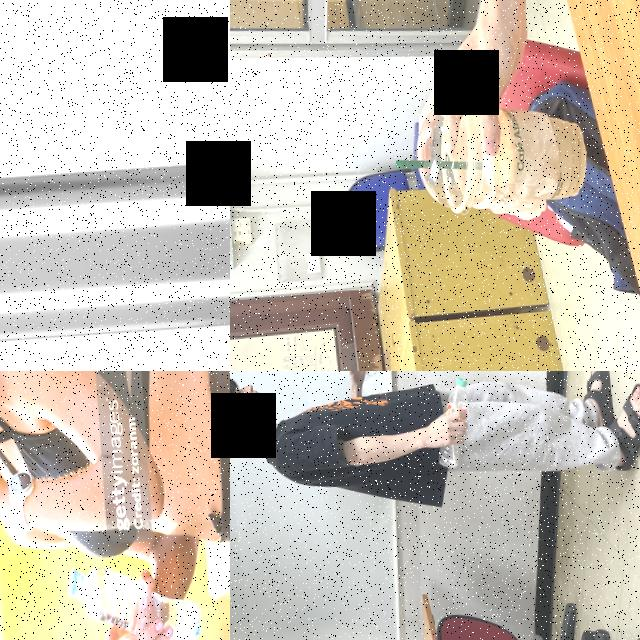bottle: (64, 556, 203, 640), (431, 374, 473, 470)
can: (0, 152, 230, 355)
cup: (413, 88, 590, 216)
